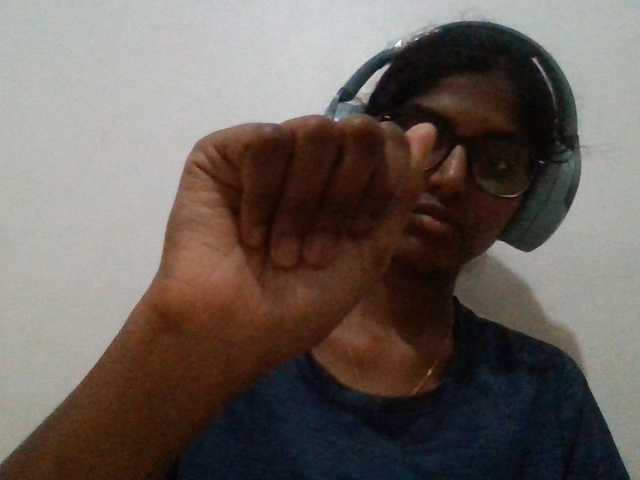A: (91, 101, 446, 389)
